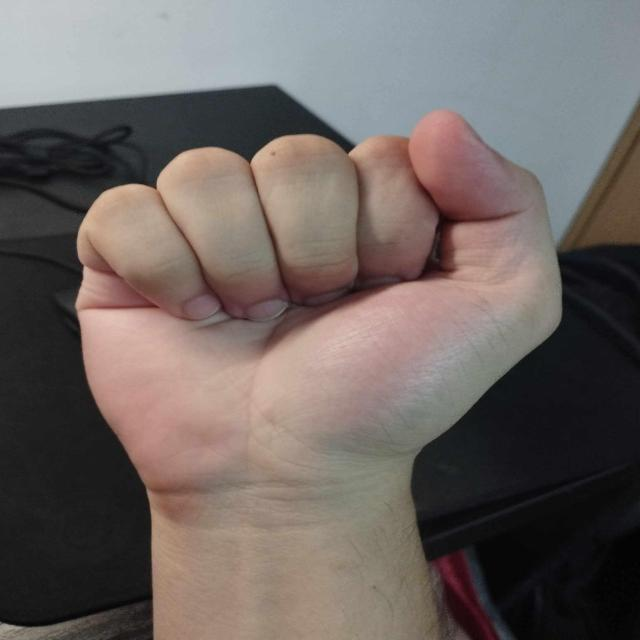A: (70, 106, 570, 498)
